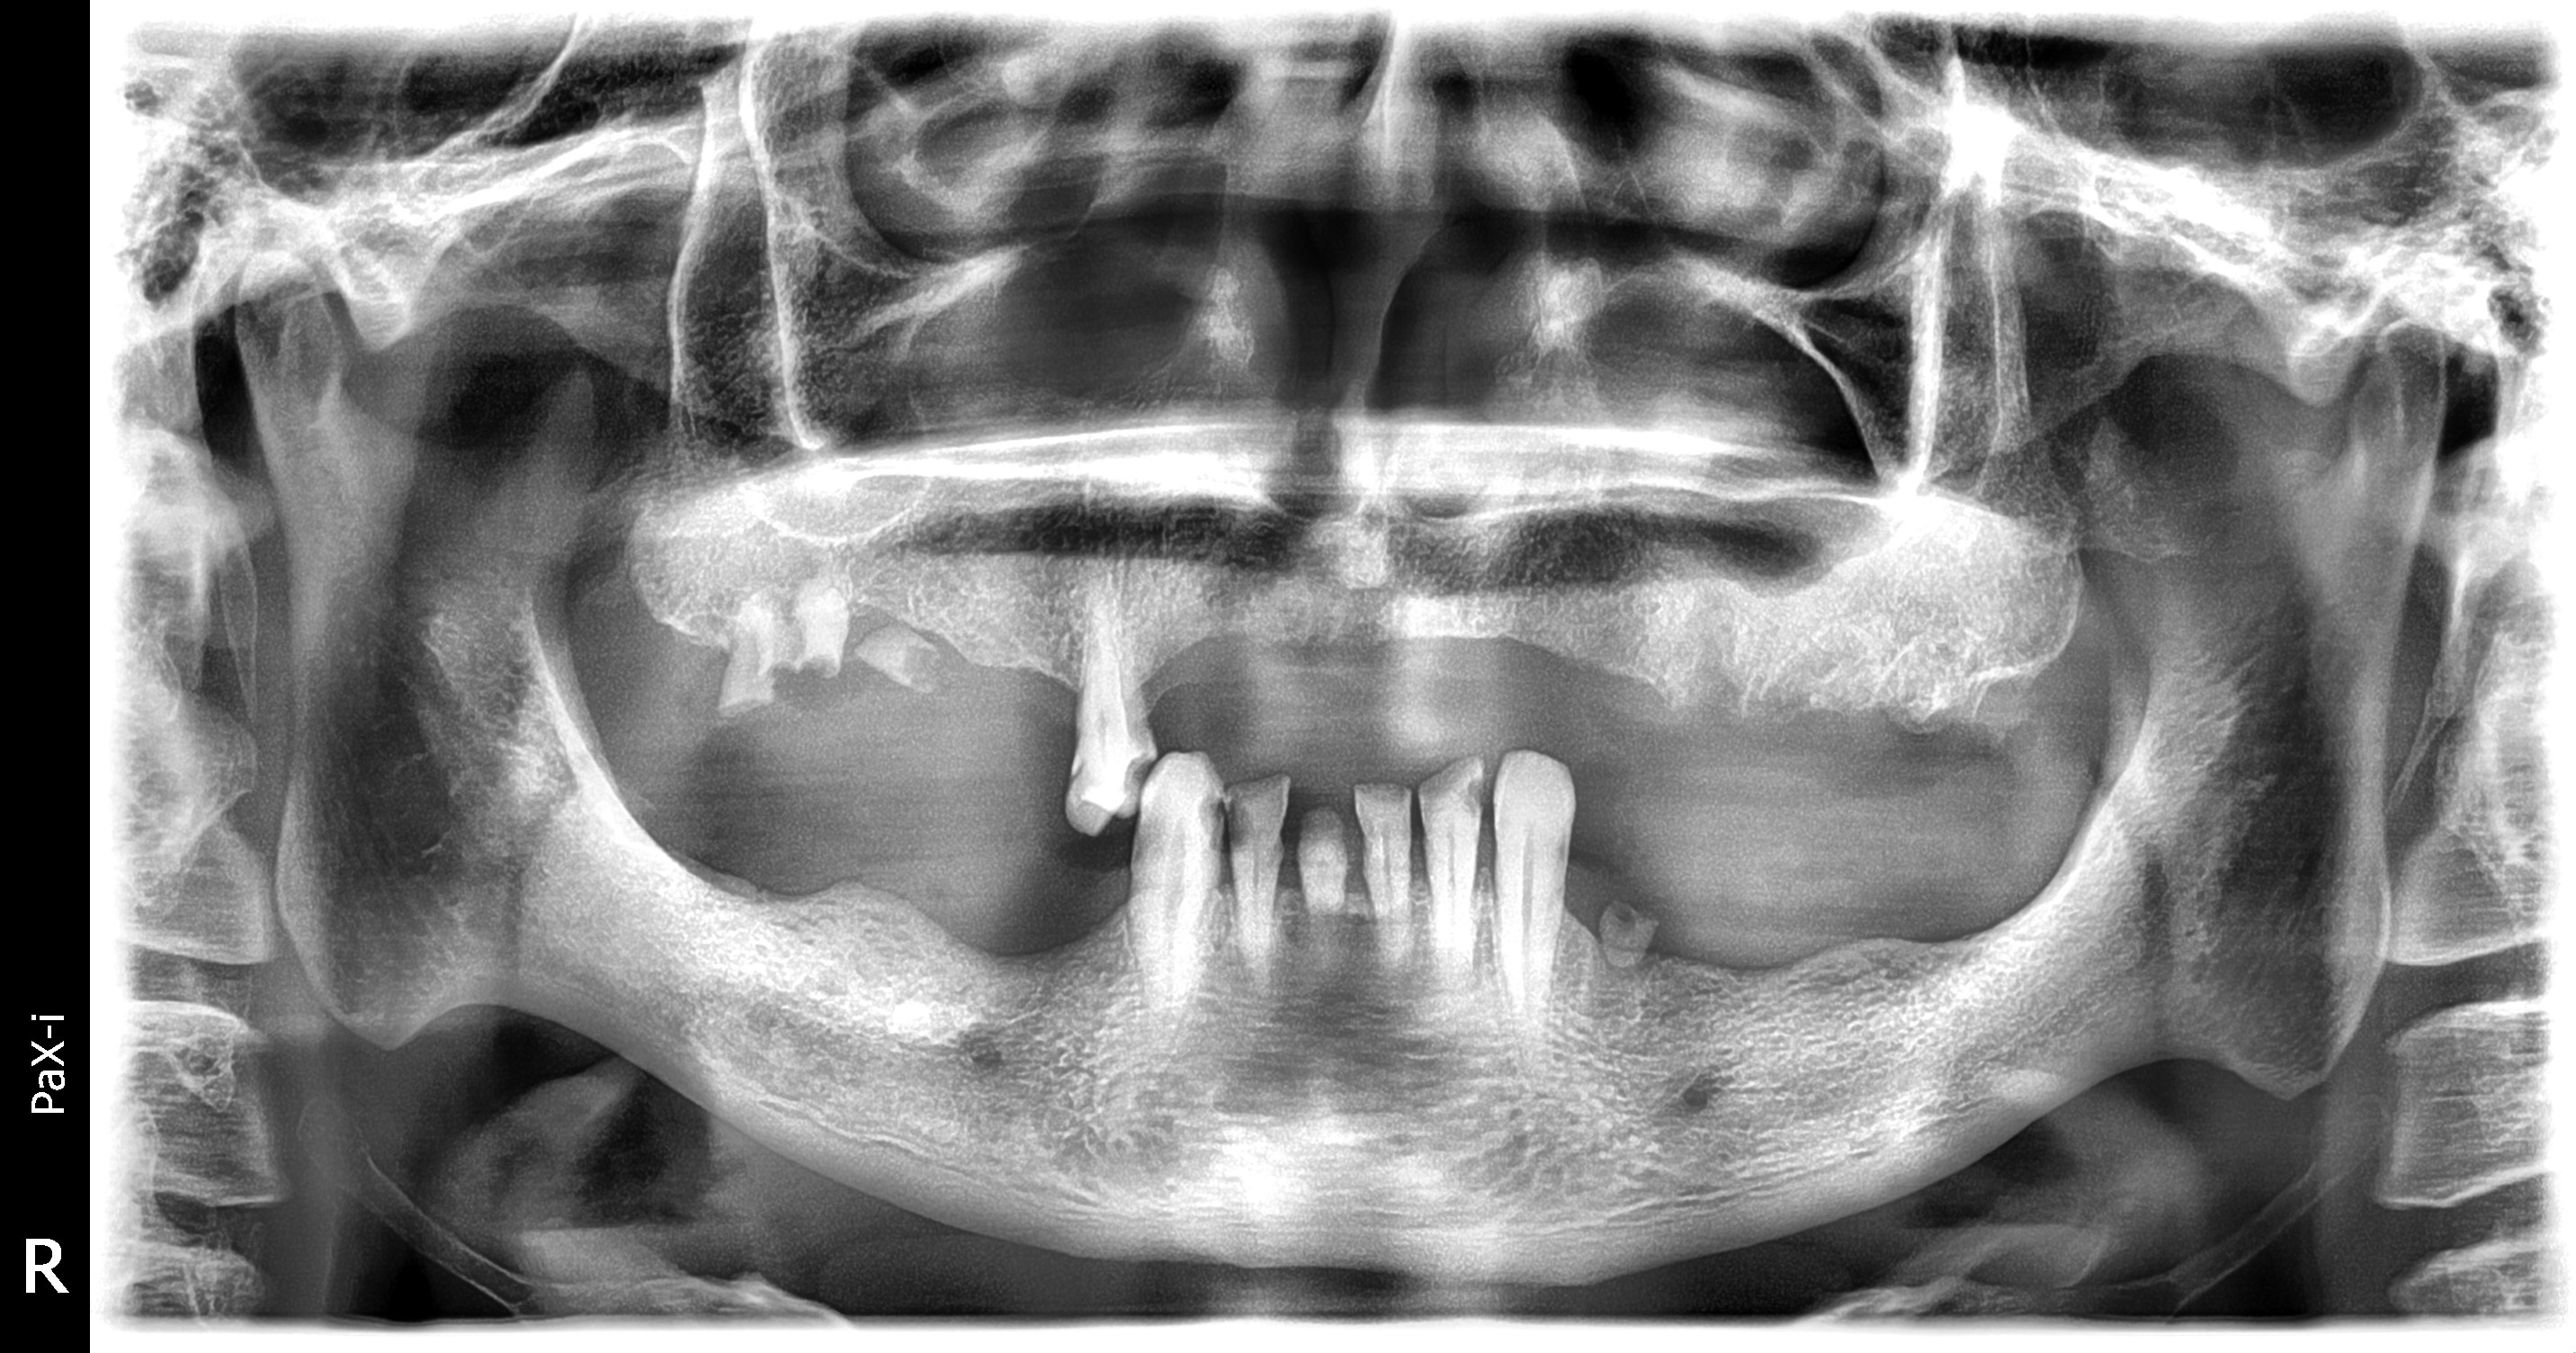BON: (1022, 639, 1097, 731), (1113, 619, 1176, 724), (1092, 861, 1160, 949), (1457, 821, 1508, 924), (1400, 823, 1453, 913)
CAR: (1097, 733, 1159, 826), (1433, 748, 1491, 835), (1186, 786, 1235, 857), (1218, 770, 1259, 849)
ROT: (1278, 791, 1365, 971), (1579, 862, 1690, 1000), (702, 583, 797, 734), (773, 566, 865, 712), (852, 602, 954, 714)
